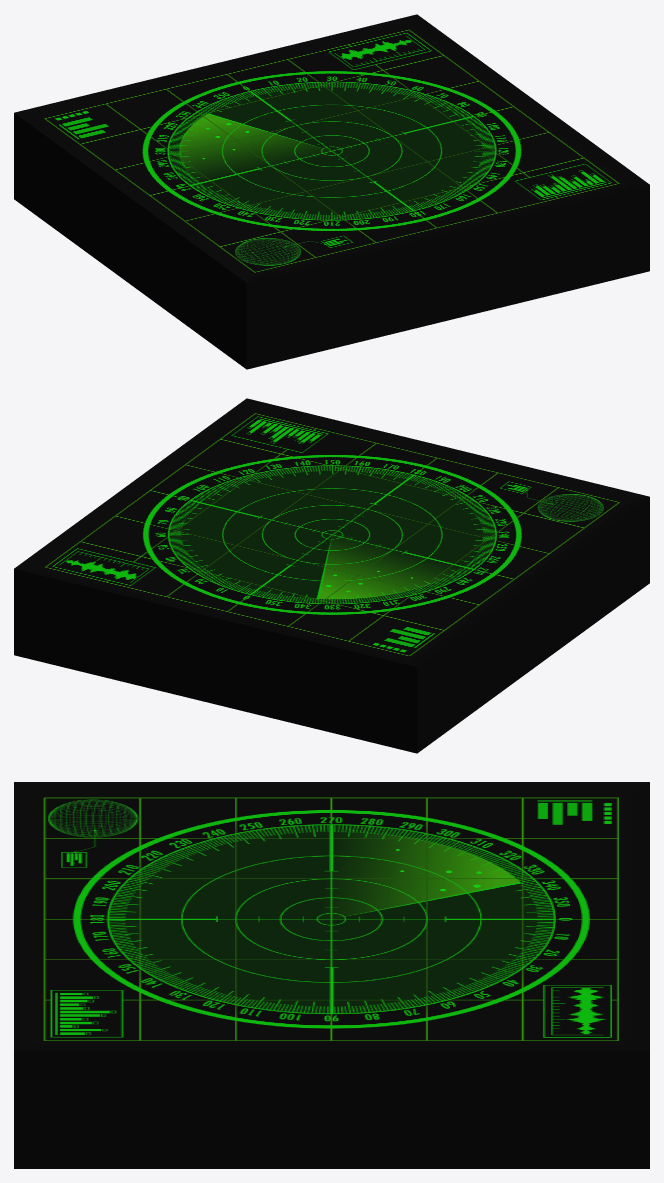
The model's file is radar.fbx.
The picture shows the model from 3 angles, top to bottom: view 1: azimuth 30°, elevation 25°; view 2: azimuth 150°, elevation 25°; view 3: azimuth 270°, elevation 25°; orthographic projection. The views are drawn at different scales.
Parts seen in each view (by area): view 1: pCube1; view 2: pCube1; view 3: pCube1.
Part boxes in pixels (left/top/right/bottom): pCube1: left=14, top=14, right=649, bottom=369; pCube1: left=14, top=398, right=649, bottom=753; pCube1: left=14, top=782, right=649, bottom=1168.
Size of the model in its own units: 10.33 by 2.12 by 10.33.
